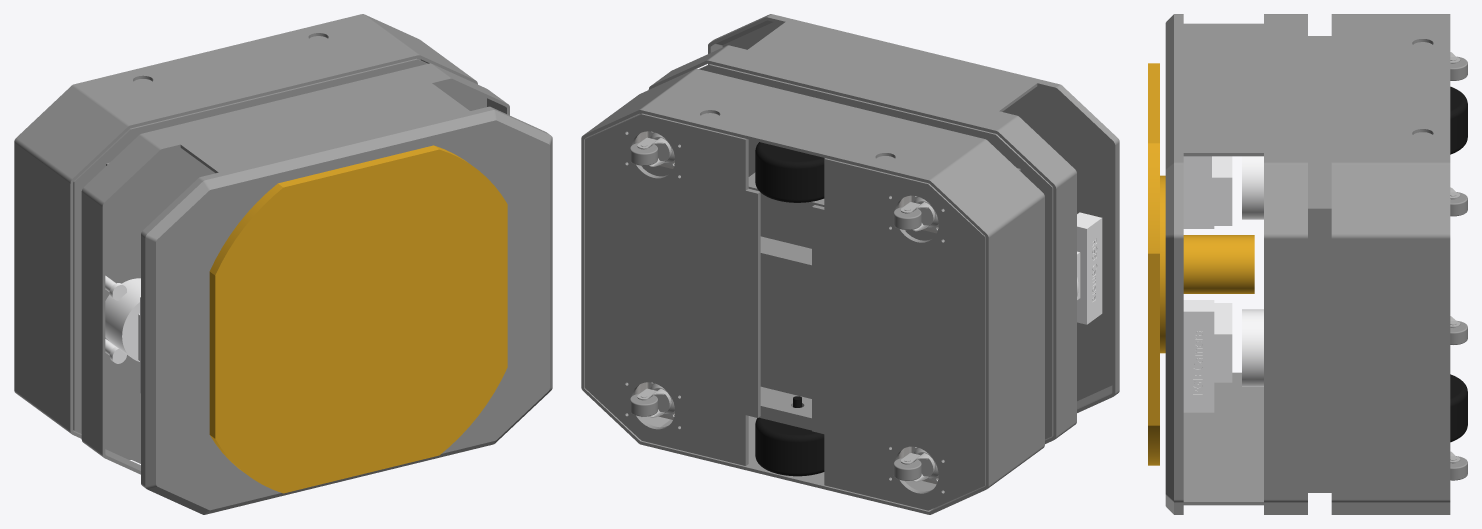
File: Tov_fusion5.fbx
3 views of the same model, side by side, from view 1: azimuth 30°, elevation 25°; view 2: azimuth 150°, elevation 25°; view 3: azimuth 270°, elevation 25° (orthographic). The views are drawn at different scales.
Visible parts, largest first — view 1: Body1 (×5), Body3; view 2: Body1 (×11), Body3; view 3: Body1 (×9), Body2.
Boxes of the visible parts, <box> form: Body1 (×5): <box>14,14,552,514</box>; Body3: <box>105,82,486,463</box>; Body1 (×11): <box>581,14,1119,514</box>; Body3: <box>698,64,1053,439</box>; Body1 (×9): <box>1148,14,1467,514</box>; Body2: <box>1308,36,1331,492</box>.
Size of the model in its own units: 418 by 328 by 270.
